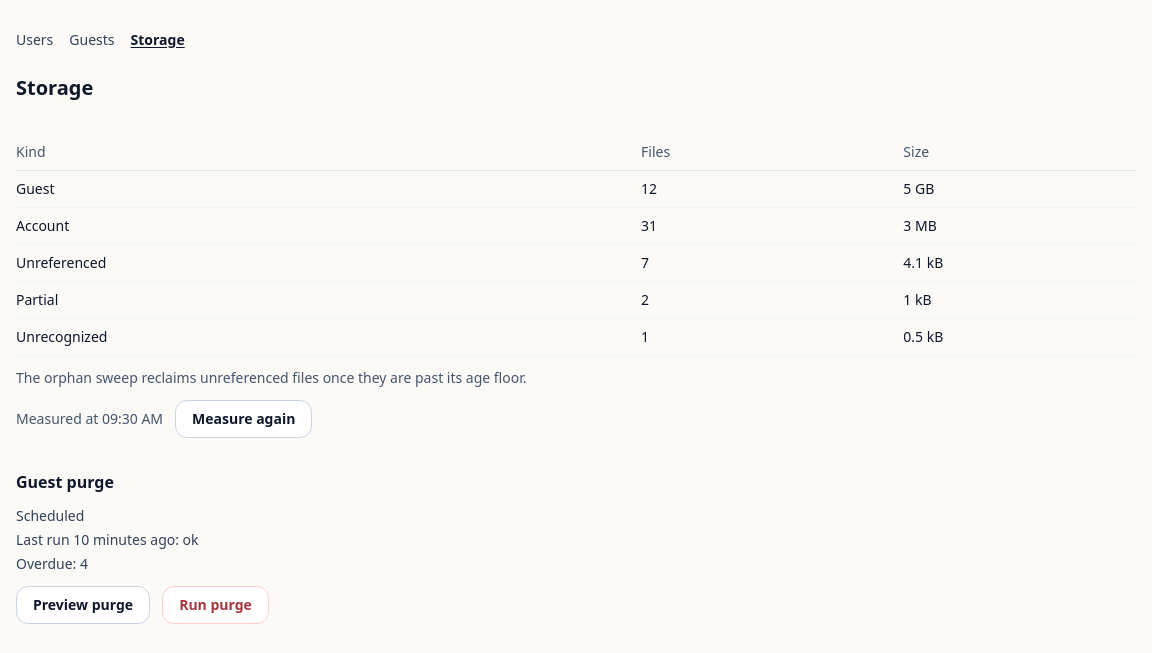
the purge panel — AC-37 › without a preview the dialog says "up to 100"
Click the button "Run purge" at (215, 605), box [162,586,269,624]
(page scrolled)
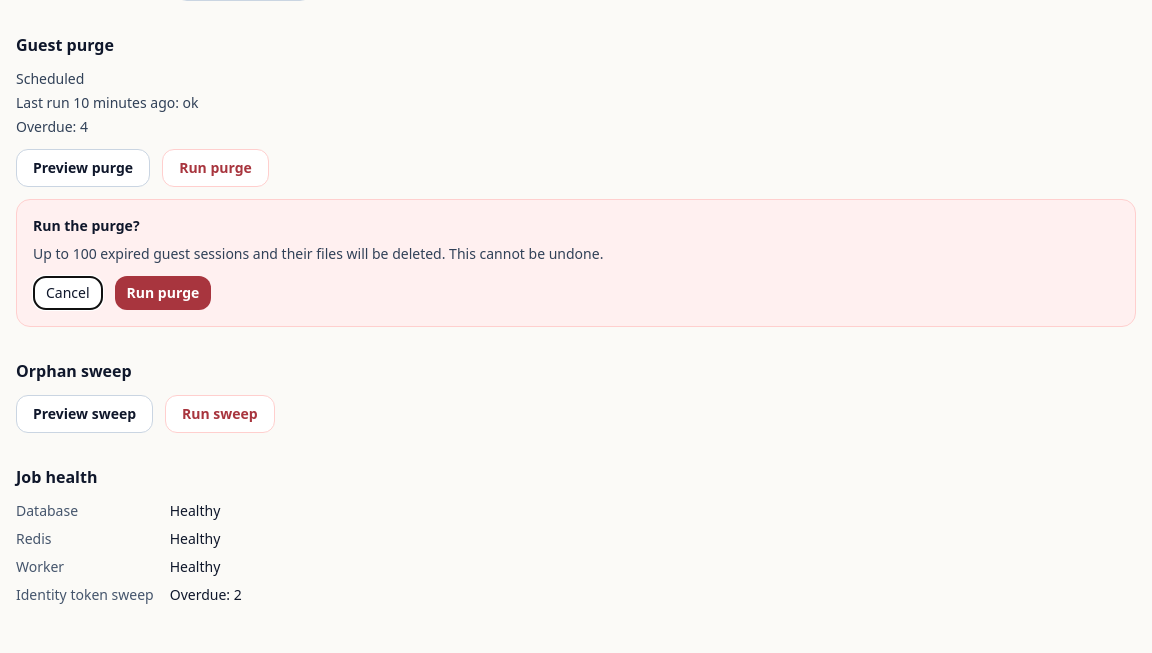
Now the dialog shows "Up to 100", box [33,244,603,263]
